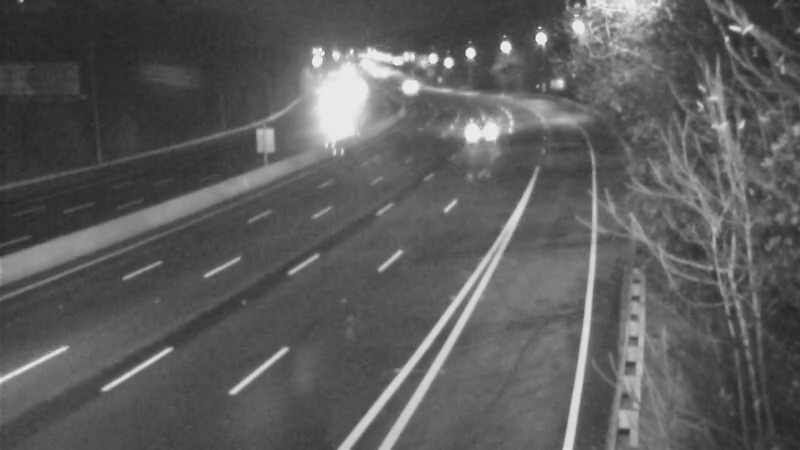vehicle: (379, 60, 429, 110), (455, 113, 505, 163)
